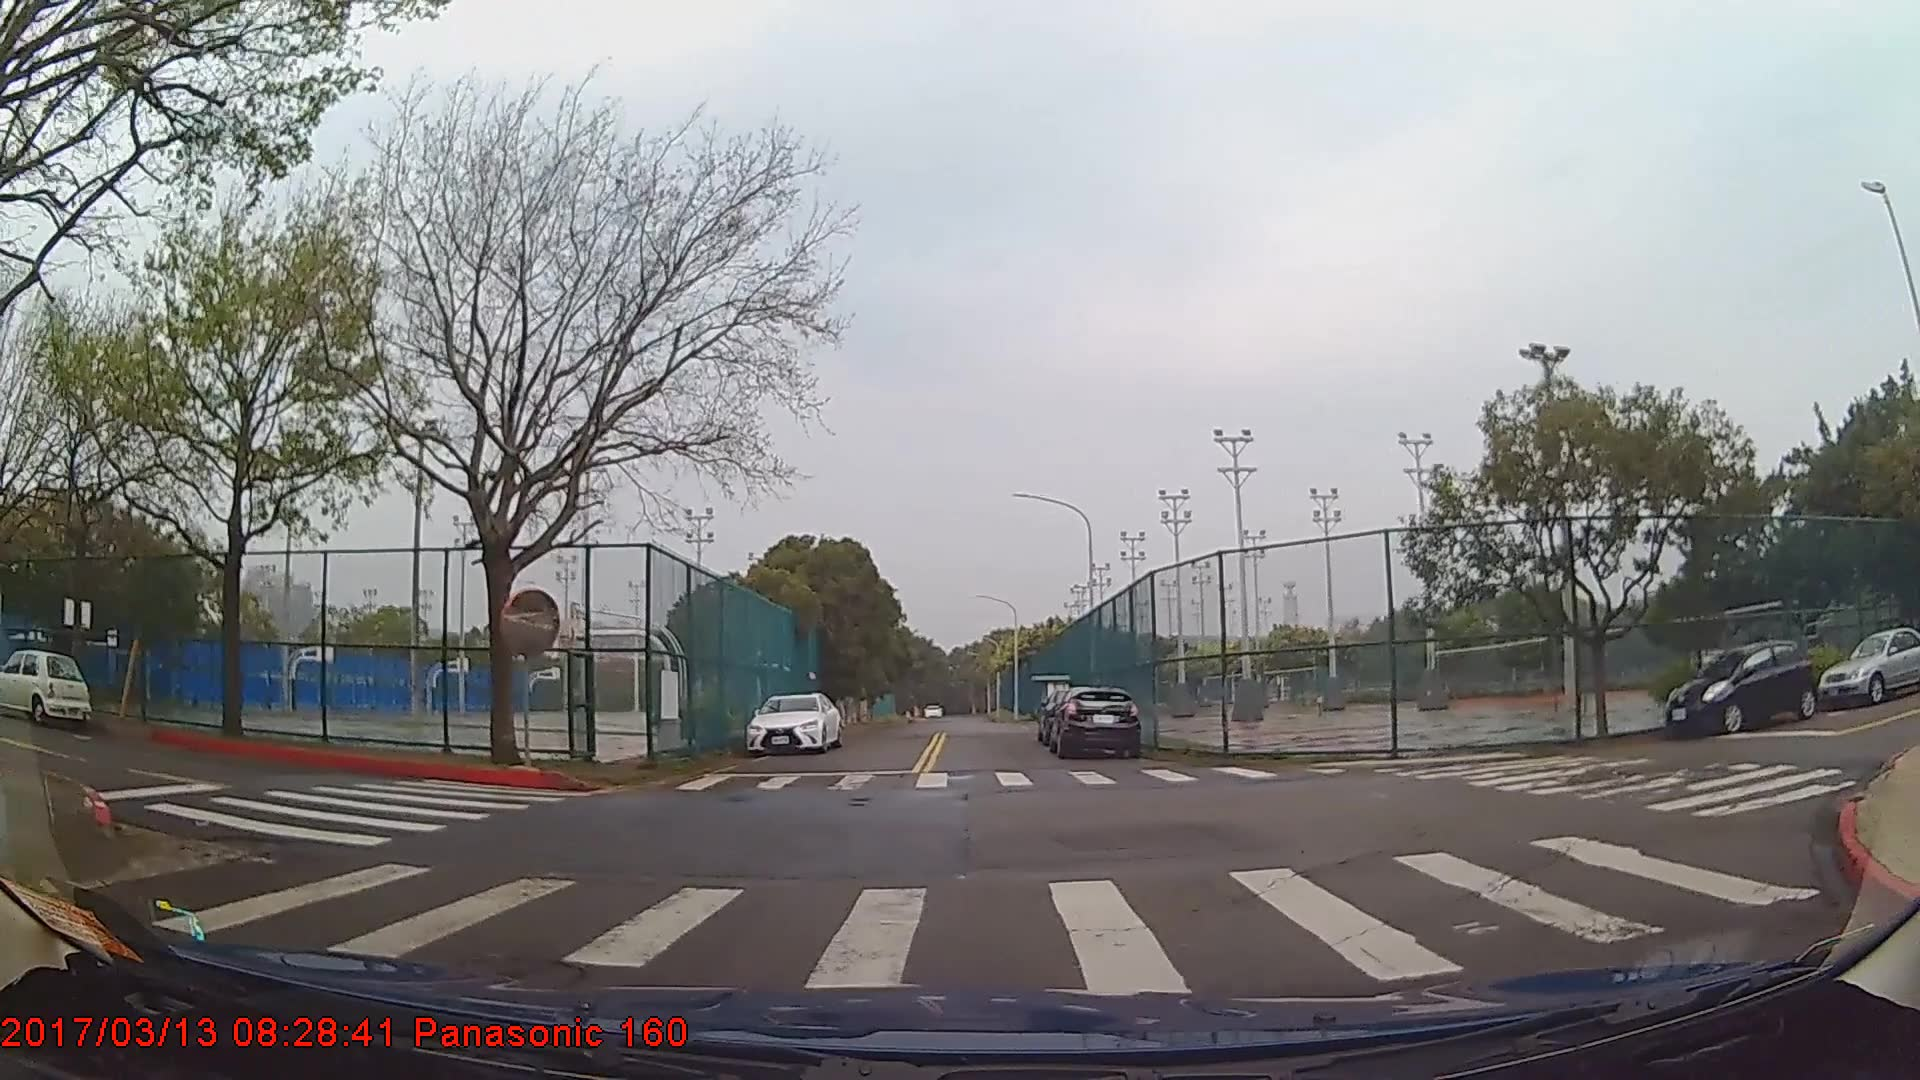vehicle: (1668, 640, 1817, 735), (1818, 626, 1920, 705), (0, 645, 94, 727), (1048, 684, 1139, 760), (746, 690, 840, 754)
